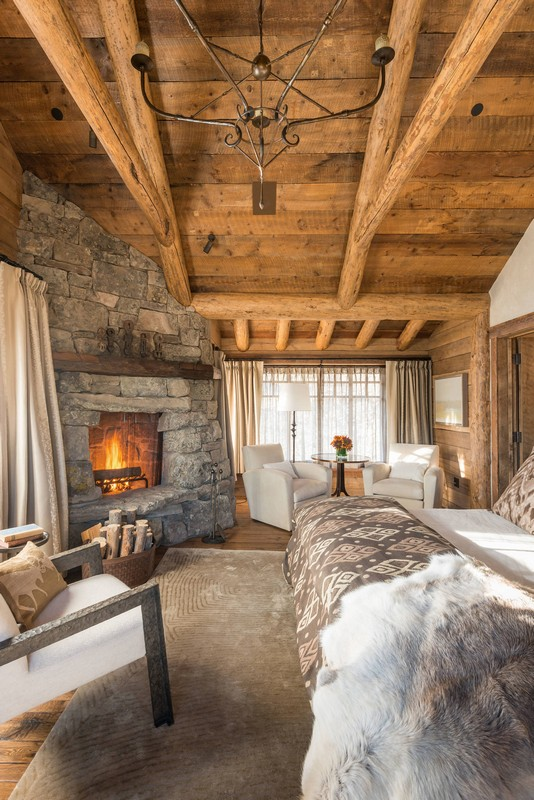bed: (296, 485, 527, 792)
lamp: (275, 374, 314, 473)
sofa: (243, 443, 327, 537), (367, 440, 444, 515)
table: (309, 445, 375, 501)
